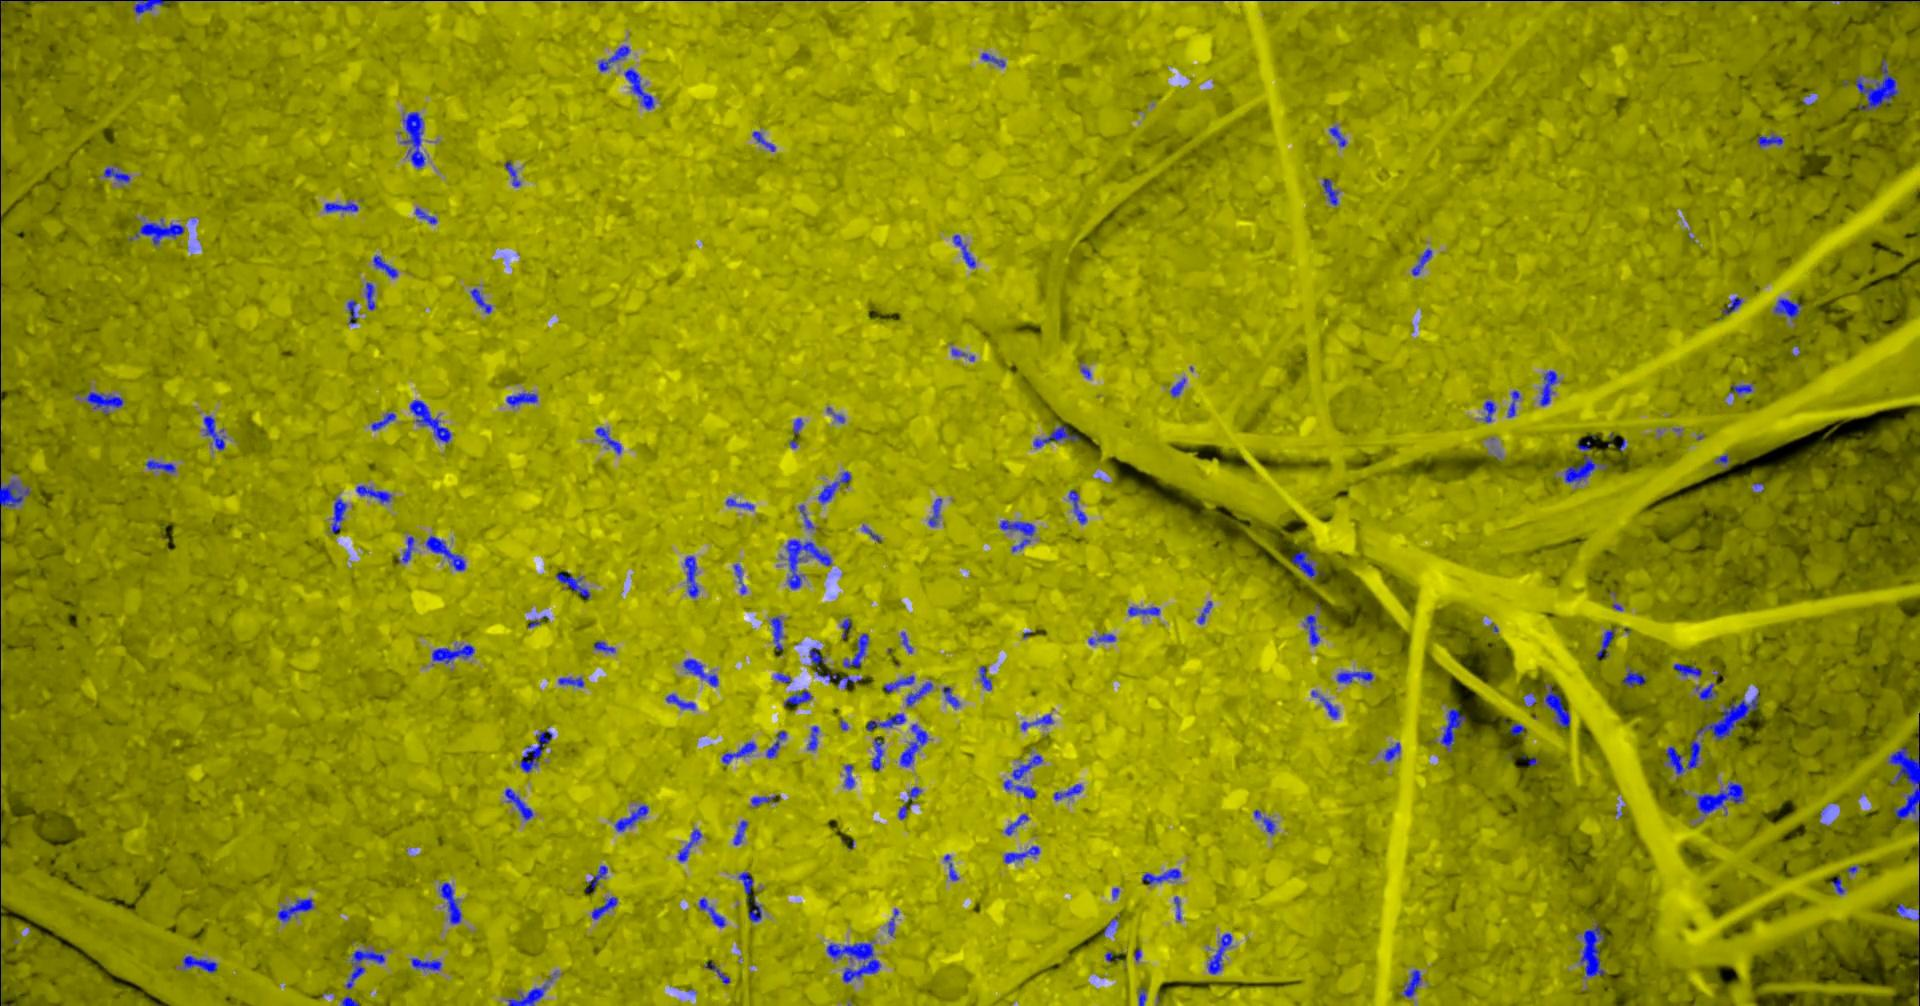ant: (1695, 692, 1757, 739), (785, 539, 830, 589), (809, 647, 862, 688), (1855, 58, 1897, 111), (825, 942, 880, 982), (409, 399, 451, 442), (1003, 754, 1043, 798), (1697, 781, 1743, 814), (344, 949, 383, 988), (425, 535, 465, 570), (1580, 923, 1605, 978), (519, 730, 551, 772), (401, 111, 424, 166), (135, 218, 183, 244), (623, 67, 653, 109), (1665, 739, 1700, 774), (1564, 455, 1606, 483), (899, 724, 927, 766), (738, 871, 761, 921), (1544, 683, 1570, 727), (999, 520, 1034, 551), (1440, 708, 1465, 749), (817, 471, 850, 503), (1206, 934, 1232, 974), (1032, 426, 1079, 447), (555, 572, 590, 600), (683, 658, 717, 686), (438, 882, 461, 923), (842, 633, 869, 667), (504, 788, 532, 819), (1290, 550, 1323, 577), (615, 804, 648, 831), (507, 983, 547, 1005), (85, 391, 123, 414), (277, 898, 314, 921), (430, 644, 474, 663), (598, 44, 629, 71), (698, 897, 725, 927), (677, 828, 701, 861), (721, 741, 756, 763), (1310, 690, 1338, 718), (0, 479, 29, 506), (952, 234, 975, 267), (596, 426, 621, 453), (866, 713, 905, 730), (203, 415, 223, 450), (905, 681, 932, 706), (683, 555, 698, 597), (1539, 370, 1557, 405), (1003, 845, 1039, 862), (1142, 868, 1180, 884), (131, 0, 175, 14), (590, 895, 616, 920), (1068, 489, 1086, 523), (356, 485, 391, 502), (703, 960, 729, 983), (1411, 248, 1431, 276), (1773, 298, 1801, 319), (764, 730, 785, 758), (182, 955, 216, 972), (883, 674, 914, 692), (372, 255, 397, 277), (1595, 629, 1614, 657), (1303, 614, 1319, 645), (1020, 714, 1051, 730), (470, 288, 491, 312), (1004, 813, 1029, 835), (1053, 782, 1082, 800), (331, 498, 345, 533), (1253, 809, 1274, 833), (370, 412, 395, 431), (588, 865, 607, 890), (1321, 178, 1338, 205), (752, 131, 775, 151), (1403, 969, 1420, 997), (665, 694, 695, 709), (505, 392, 537, 406), (143, 459, 175, 473), (770, 616, 782, 650), (1622, 668, 1646, 686), (783, 690, 811, 705), (1336, 671, 1373, 682), (504, 160, 521, 185), (411, 956, 441, 970), (103, 166, 130, 182), (397, 536, 413, 561), (733, 563, 745, 593), (1328, 124, 1346, 146), (324, 201, 357, 212), (943, 854, 957, 880), (1672, 663, 1702, 676), (797, 504, 813, 528), (871, 737, 883, 768), (414, 207, 436, 224), (1721, 297, 1742, 314), (942, 686, 959, 708), (725, 497, 753, 509), (928, 498, 941, 526), (982, 52, 1004, 67), (733, 821, 747, 845), (1695, 683, 1716, 700), (750, 794, 776, 807), (1197, 600, 1211, 622), (1383, 742, 1399, 761), (1757, 133, 1782, 146), (1507, 390, 1519, 417), (1088, 633, 1115, 644), (1170, 377, 1185, 396), (557, 676, 583, 687), (888, 908, 898, 936), (1128, 606, 1159, 615), (979, 666, 990, 690), (843, 763, 855, 788), (364, 282, 375, 309), (1483, 400, 1495, 422), (593, 640, 615, 652), (345, 298, 356, 323), (808, 725, 818, 749), (1895, 903, 1910, 918), (1831, 876, 1844, 894), (1509, 721, 1524, 735), (907, 786, 921, 800), (1730, 384, 1751, 392), (841, 619, 850, 638), (792, 418, 803, 434), (775, 672, 791, 682), (342, 996, 359, 1005), (1138, 987, 1145, 1005), (1865, 0, 1919, 1), (0, 953, 1, 1005)
